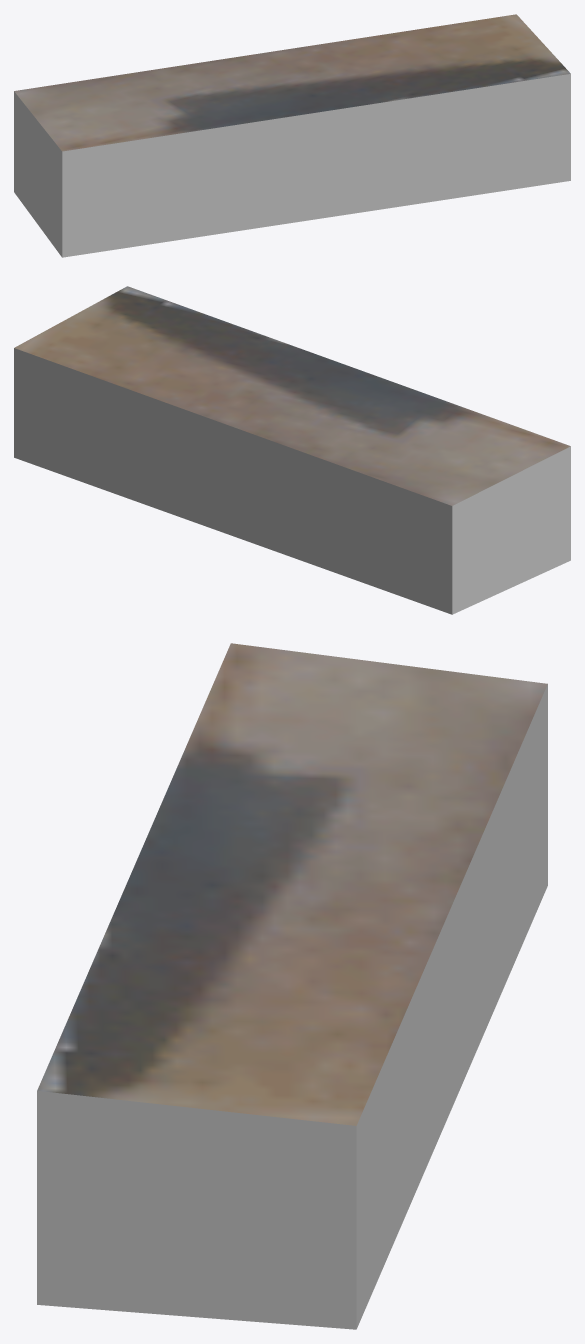
The model's file is DEBW_0010007Tx67.gltf.
3 views of the same model, one above another, from view 1: azimuth 30°, elevation 25°; view 2: azimuth 150°, elevation 25°; view 3: azimuth 270°, elevation 25° (orthographic). The views are drawn at different scales.
Parts seen in each view (by area): view 1: Z_UP; view 2: Z_UP; view 3: Z_UP.
Part boxes in pixels (left/top/right/bottom): Z_UP: left=14, top=14, right=570, bottom=257; Z_UP: left=14, top=286, right=570, bottom=614; Z_UP: left=37, top=643, right=547, bottom=1329.
Bounding box in the file's own units: 18.3 × 3.85 × 8.33.
Materials: 2 (1 with a texture image).
